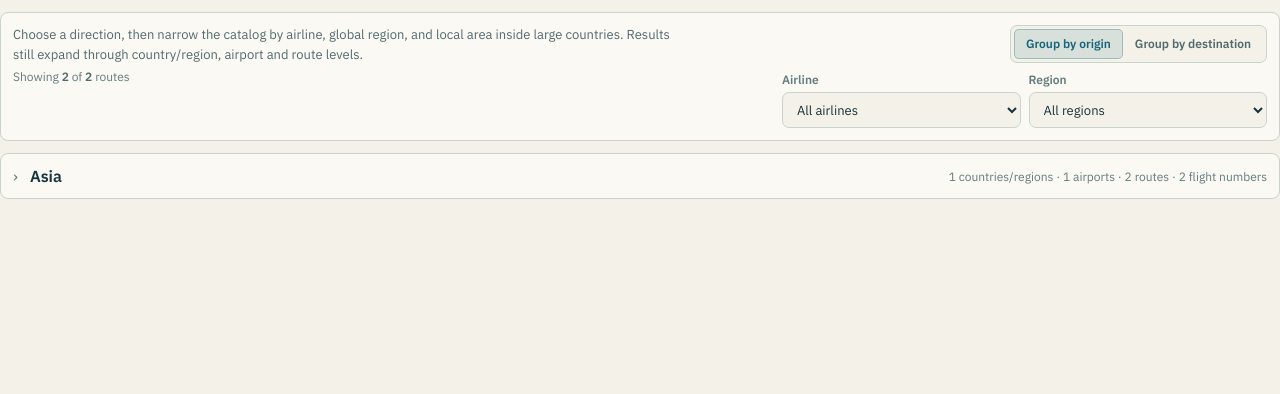
Test: can regroup the same directional routes by destination
The width and height of the screenshot is (1280, 394).
Click the button "Group by destination". click: click(1193, 44)
box: x1=1123 y1=29 x2=1263 y2=59
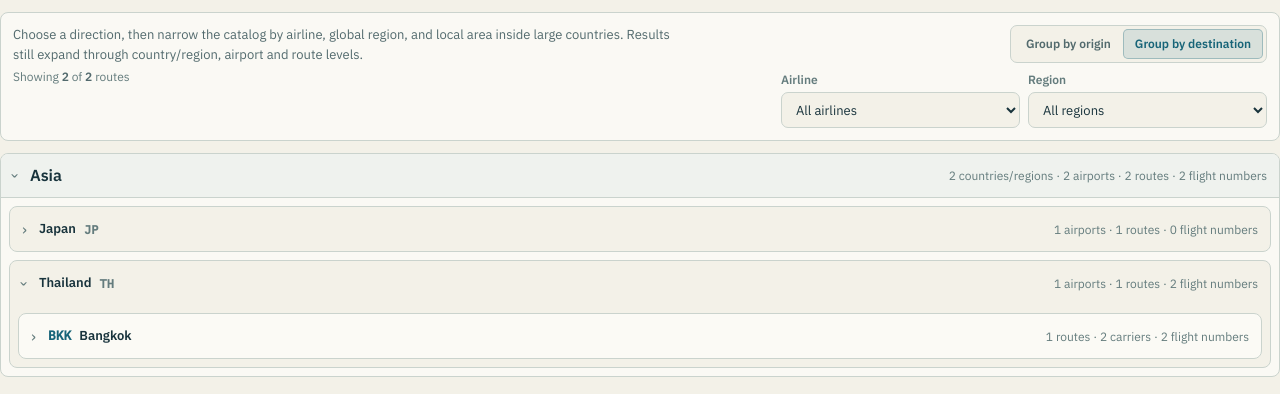
Expected: the element that starts with "Thailand" is shown, x1=9 y1=260 x2=1271 y2=368
Expected: the element showing "BKK Bangkok 1 routes · 2 carriers · 2 flight numbers" is shown, x1=18 y1=313 x2=1262 y2=359
